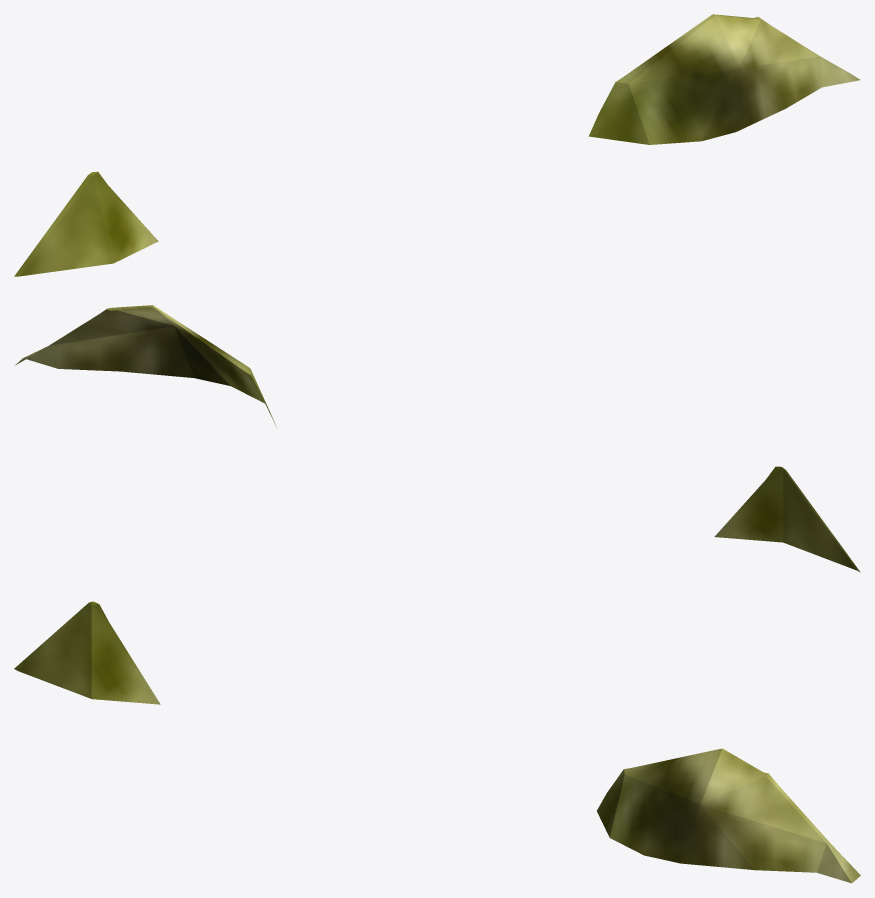
3 renders of one model, top to bottom at view 1: azimuth 30°, elevation 25°; view 2: azimuth 150°, elevation 25°; view 3: azimuth 330°, elevation 25°, orthographic.
Bounding box in the file's own units: 1.01 × 0.1066 × 0.0697.
1 material, 1 textured.
